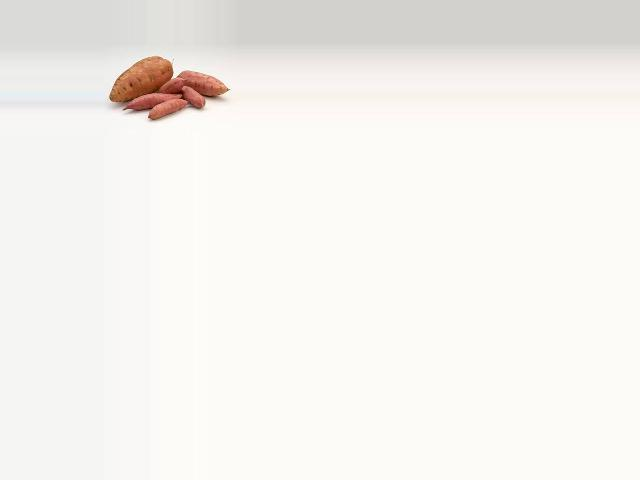sweet_potato: (178, 70, 231, 96)
